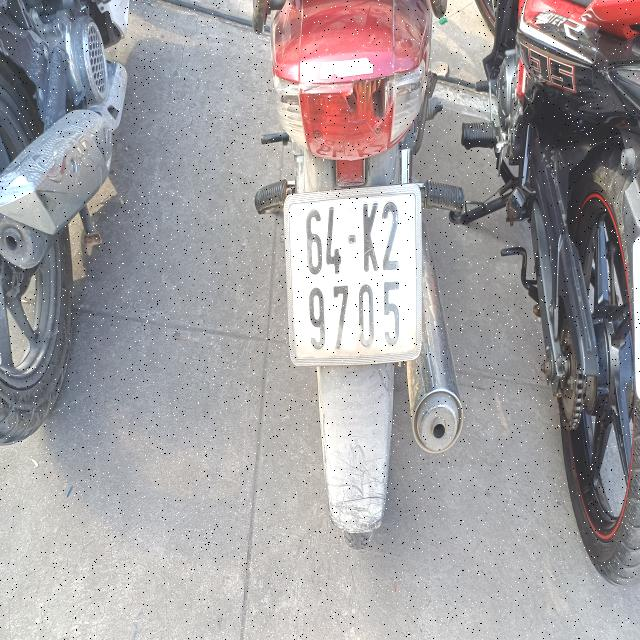0: (356, 286, 375, 354)
2: (381, 202, 403, 276)
4: (324, 206, 342, 271)
5: (379, 278, 403, 356)
6: (308, 210, 324, 281)
7: (332, 278, 348, 358)
9: (309, 283, 330, 358)
K: (360, 198, 381, 273)
